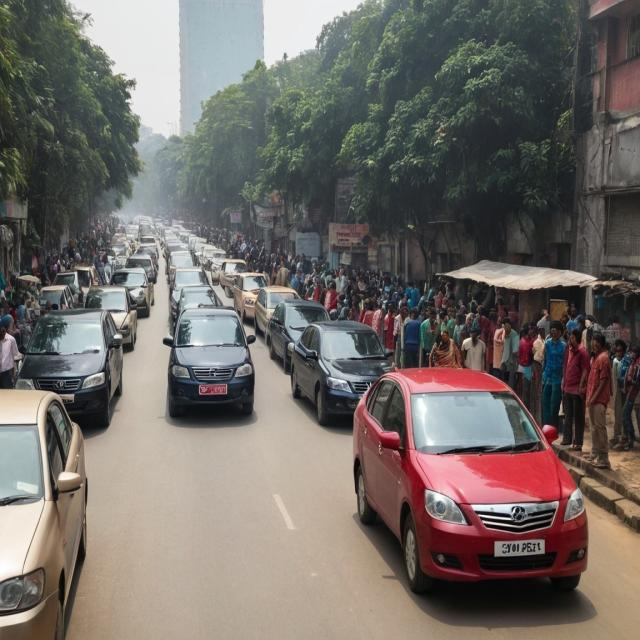black: (22, 308, 121, 435), (166, 305, 262, 424), (294, 323, 397, 417), (269, 301, 331, 361)
red: (346, 370, 590, 616)
